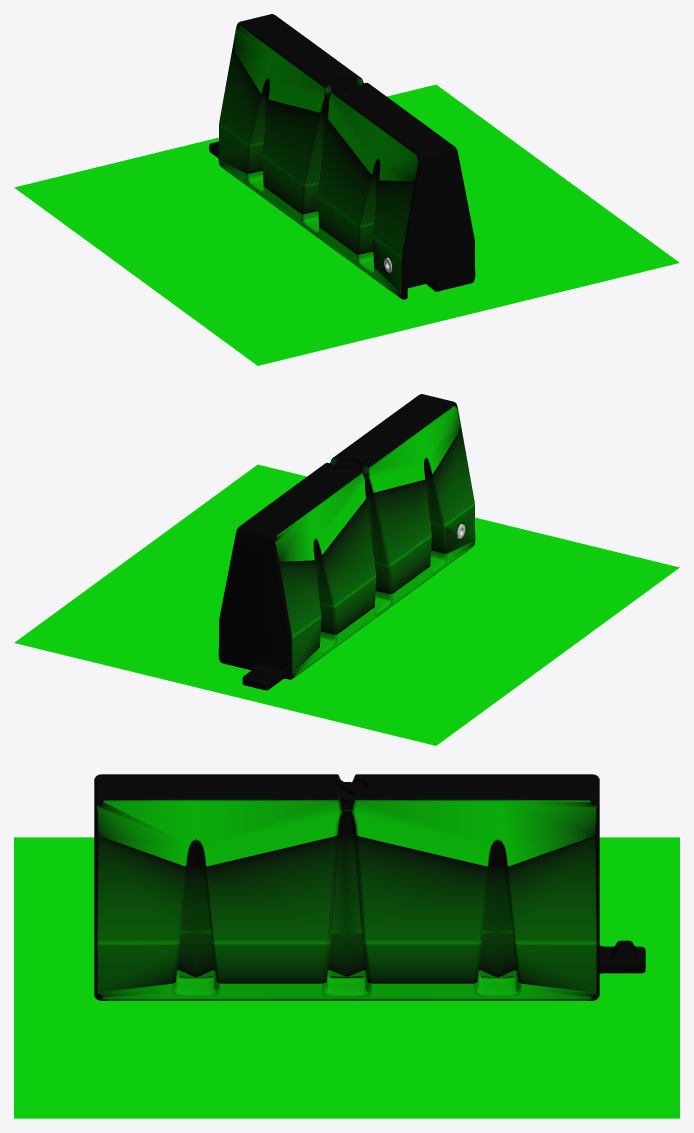
Rendered from barrier.fbx.
3 renders of one model, top to bottom at view 1: azimuth 30°, elevation 25°; view 2: azimuth 150°, elevation 25°; view 3: azimuth 270°, elevation 25°, orthographic. The views are drawn at different scales.
Parts seen in each view (by area): view 1: shdw, decal, barrier_plastic; view 2: shdw, decal, barrier_plastic; view 3: shdw, decal, barrier_plastic, top_cork.
Part boxes in pixels (bbox=[...]): shdw: bbox=[14, 84, 679, 365]; decal: bbox=[218, 25, 475, 297]; barrier_plastic: bbox=[209, 14, 474, 299]; shdw: bbox=[14, 464, 679, 745]; decal: bbox=[218, 405, 475, 677]; barrier_plastic: bbox=[219, 394, 465, 690]; shdw: bbox=[14, 837, 679, 1118]; decal: bbox=[97, 799, 596, 999]; barrier_plastic: bbox=[94, 774, 645, 1000]; top_cork: bbox=[328, 780, 365, 805].
Bounding box in the file's own units: 269 × 85.88 × 269.
